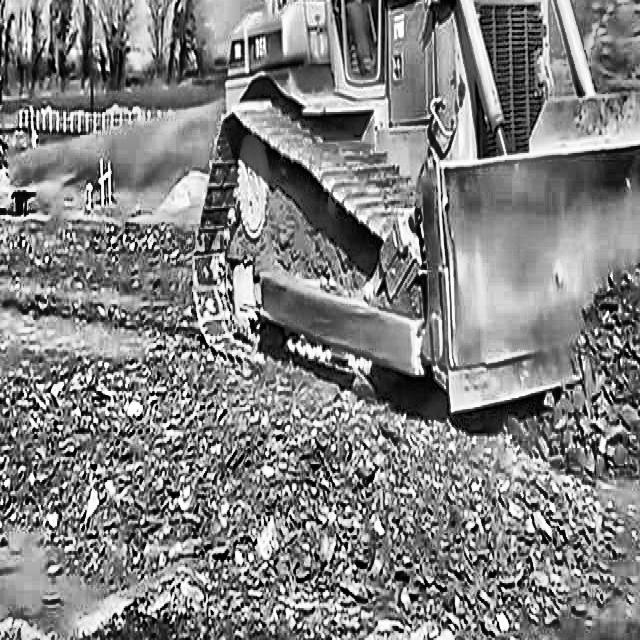buldozerpayloadergrader: (188, 0, 640, 414)
